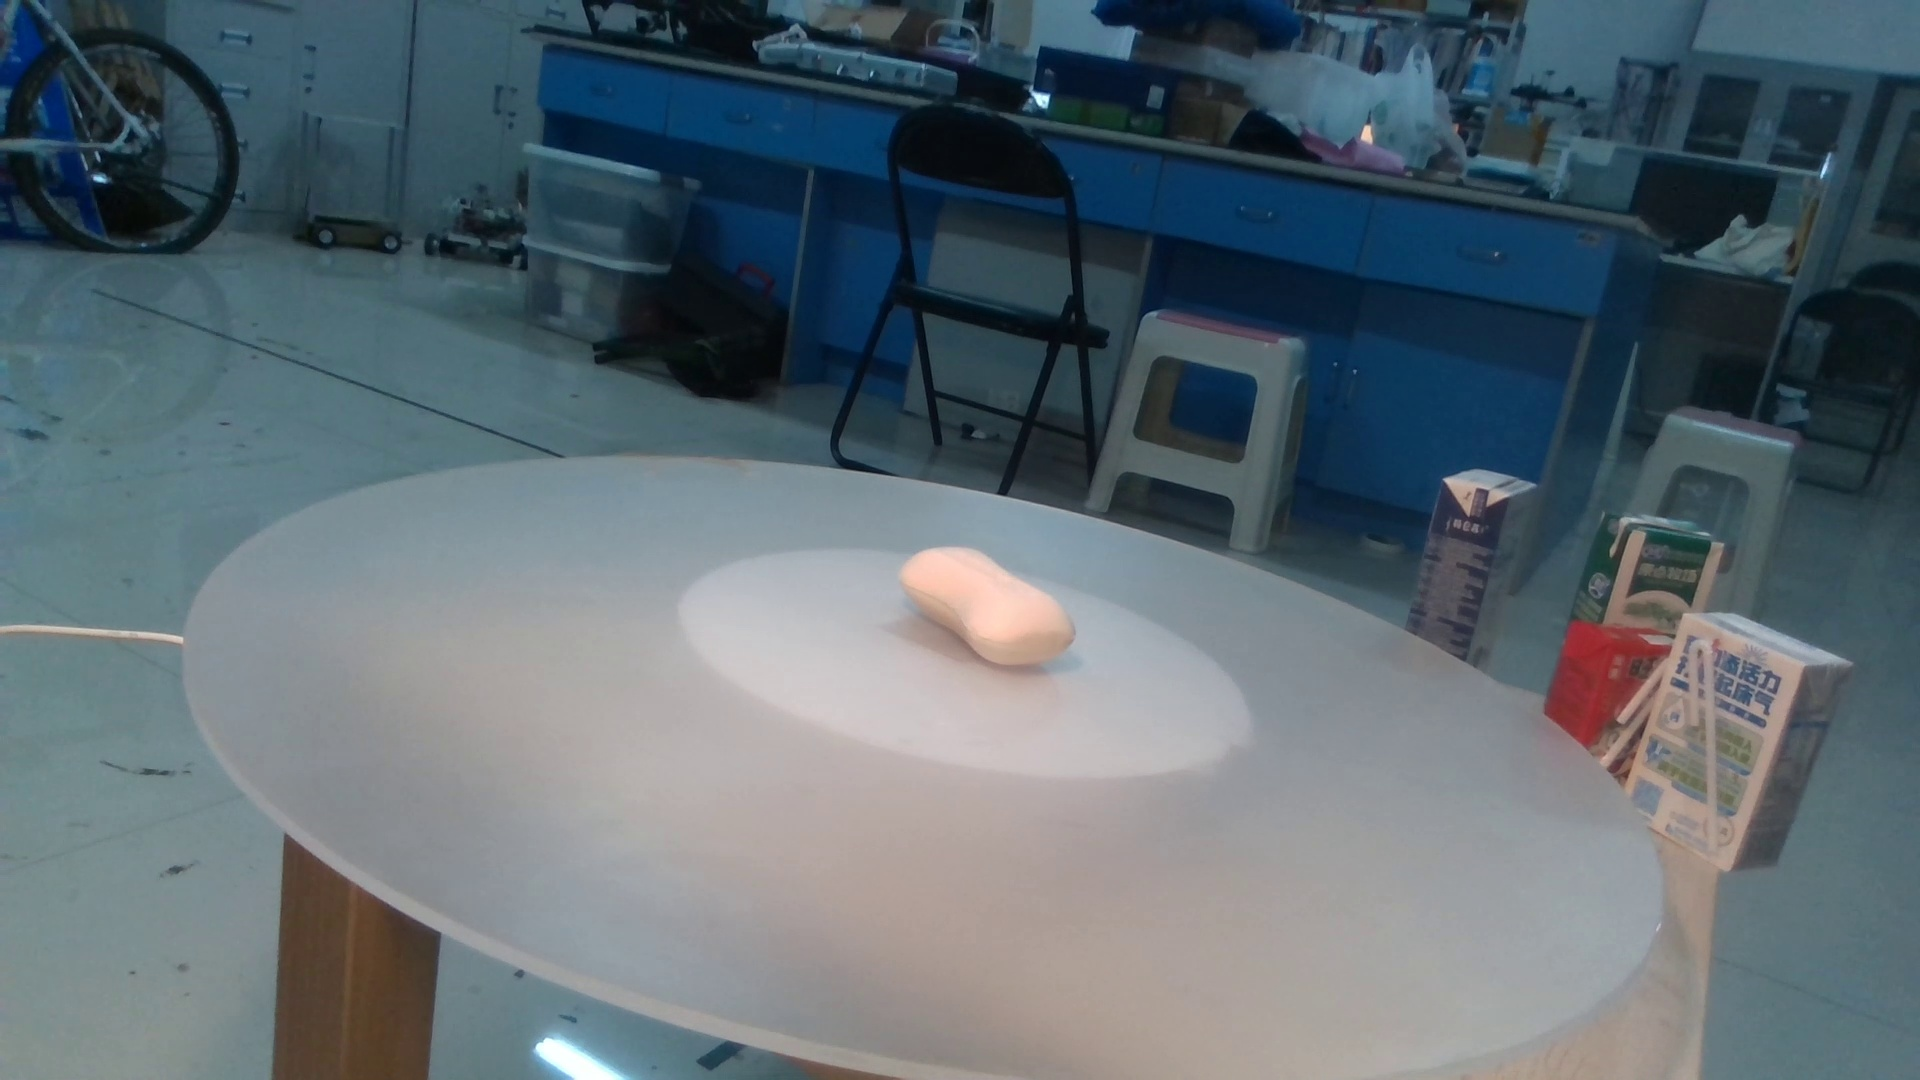CA003_1: (873, 522, 1120, 682)
